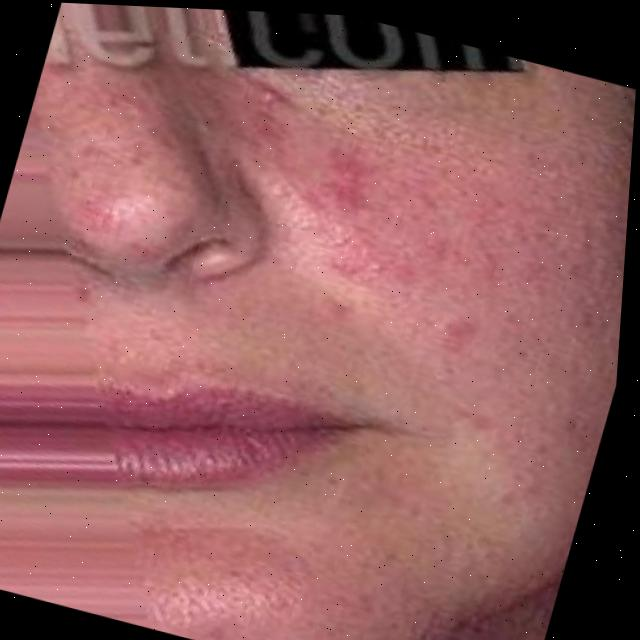Rosacea: (244, 76, 423, 275)
